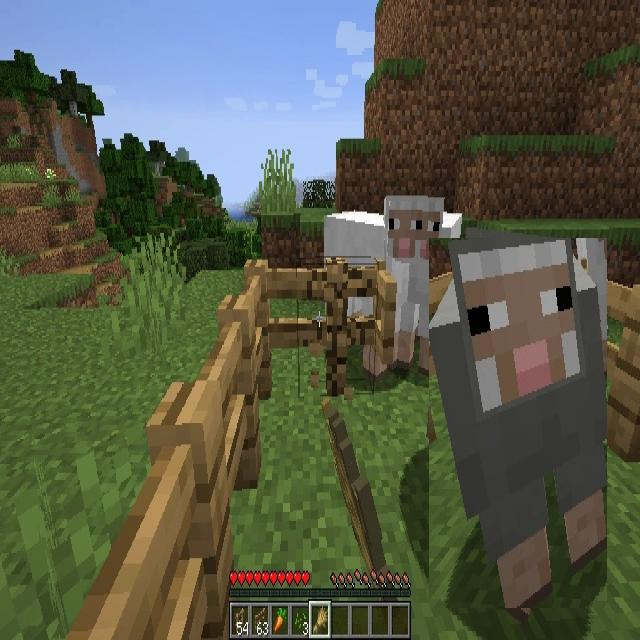sheep: (429, 238, 607, 608), (325, 194, 420, 354), (398, 202, 464, 369)
